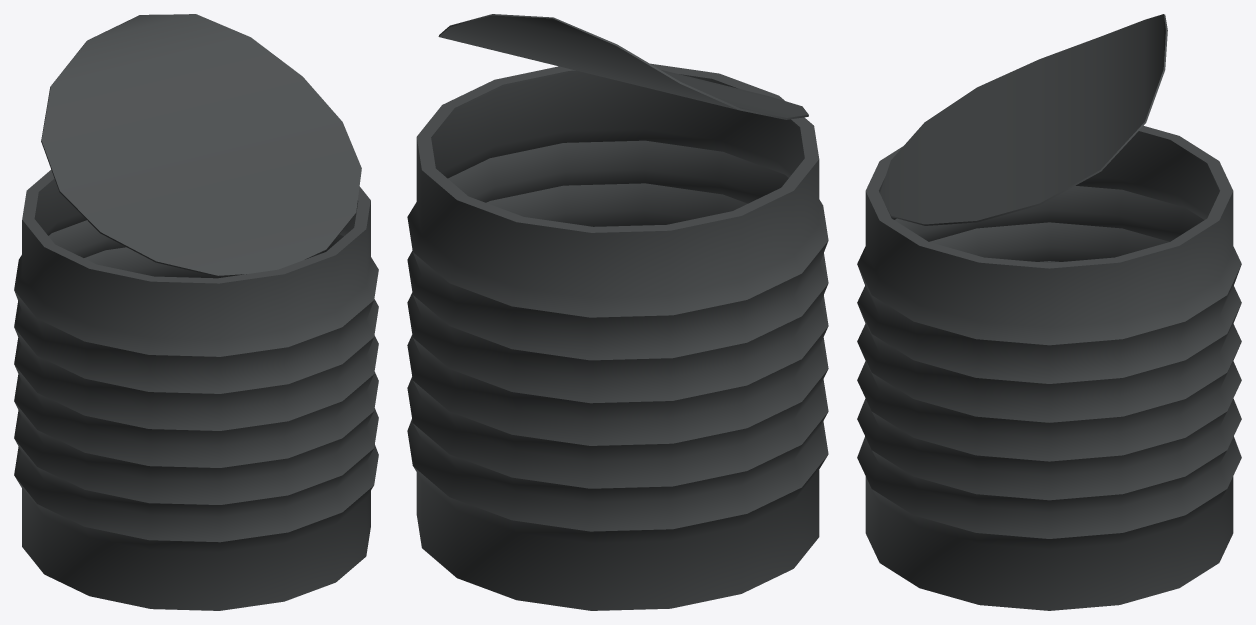
The model's file is Lata_01.fbx.
The picture shows the model from 3 angles, left to right: view 1: azimuth 30°, elevation 25°; view 2: azimuth 150°, elevation 25°; view 3: azimuth 270°, elevation 25°; orthographic projection. The views are drawn at different scales.
Visible parts, largest first — view 1: Lata_01; view 2: Lata_01; view 3: Lata_01.
Boxes of the visible parts, box(x1,y1,x2,y2) form: Lata_01: box(14, 14, 378, 610); Lata_01: box(407, 14, 828, 610); Lata_01: box(857, 14, 1241, 610).
Size of the model in its own units: 29.05 by 41.91 by 29.05.
